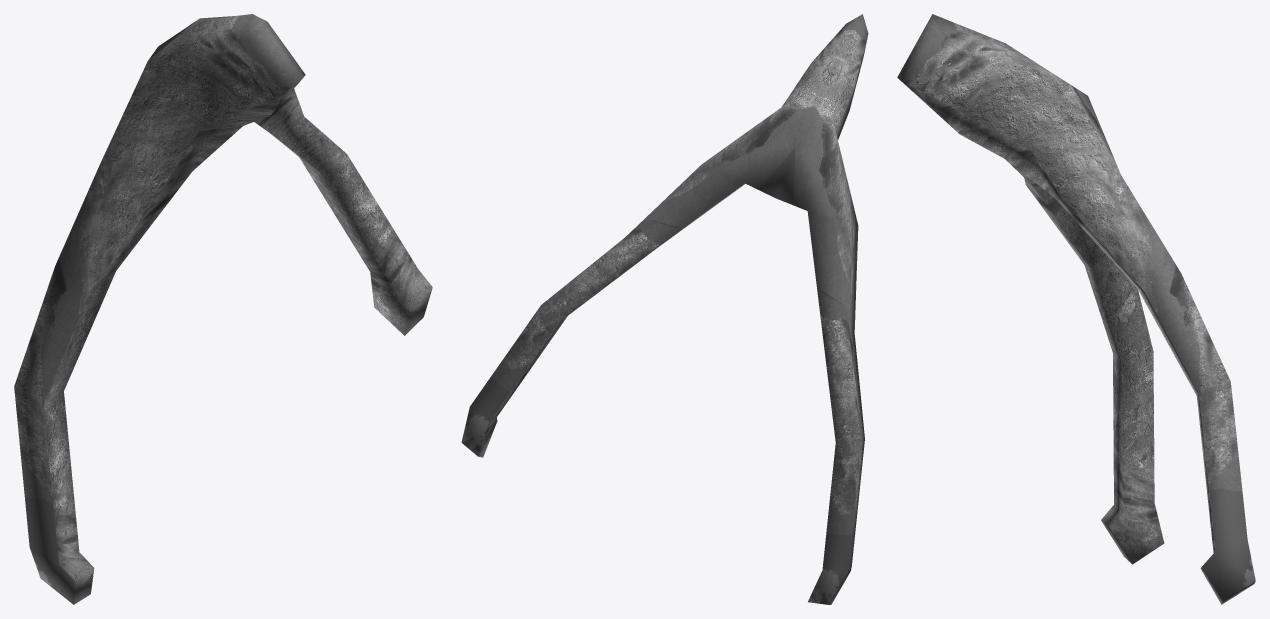
The model's file is wishbone.fbx.
3 views of the same model, side by side, from view 1: azimuth 30°, elevation 25°; view 2: azimuth 150°, elevation 25°; view 3: azimuth 270°, elevation 25° (orthographic). The views are drawn at different scales.
Parts seen in each view (by area): view 1: wishbone; view 2: wishbone; view 3: wishbone.
Part boxes in pixels (x1,y1,x2,y2): wishbone: [14, 14, 432, 604]; wishbone: [461, 14, 868, 604]; wishbone: [897, 14, 1255, 604].
Size of the model in its own units: 2875 by 3949 by 2243.
Materials: 1 (1 with a texture image).
